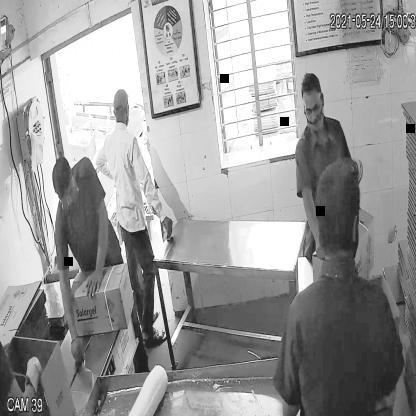goggles: (300, 97, 324, 122)
